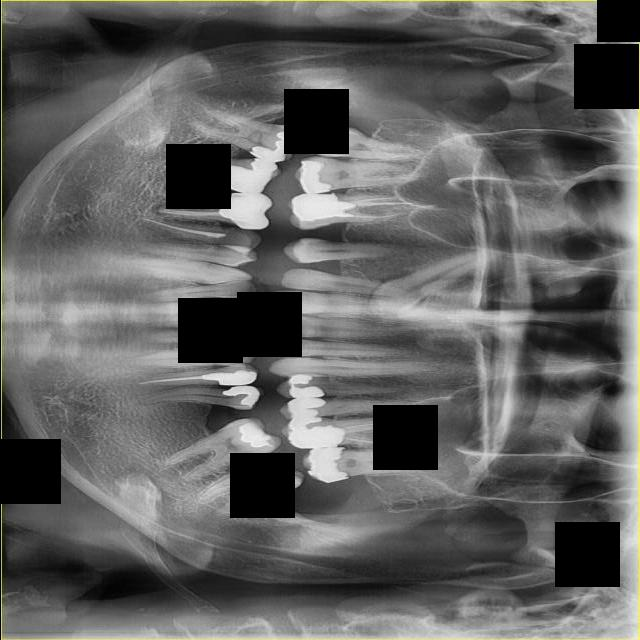74: (137, 218, 225, 241), (169, 145, 227, 171), (341, 418, 411, 434), (165, 164, 225, 181), (171, 187, 219, 203), (137, 376, 201, 385), (349, 194, 396, 205), (351, 199, 413, 207), (343, 436, 392, 446), (158, 210, 222, 217), (350, 213, 405, 219)
NucleOSS Implant: (248, 121, 308, 174), (221, 154, 277, 197), (287, 413, 346, 450), (253, 451, 299, 495), (304, 444, 350, 486), (291, 192, 355, 221), (233, 418, 276, 458), (221, 374, 262, 410), (297, 157, 331, 195), (199, 369, 256, 390), (217, 196, 258, 220), (287, 396, 326, 420), (287, 385, 325, 398), (287, 373, 312, 385)
Sterngold Implant: (219, 228, 258, 250)
Straumann Implant: (275, 336, 302, 348), (272, 332, 305, 338)
Zimmer Implant: (228, 192, 273, 230)
